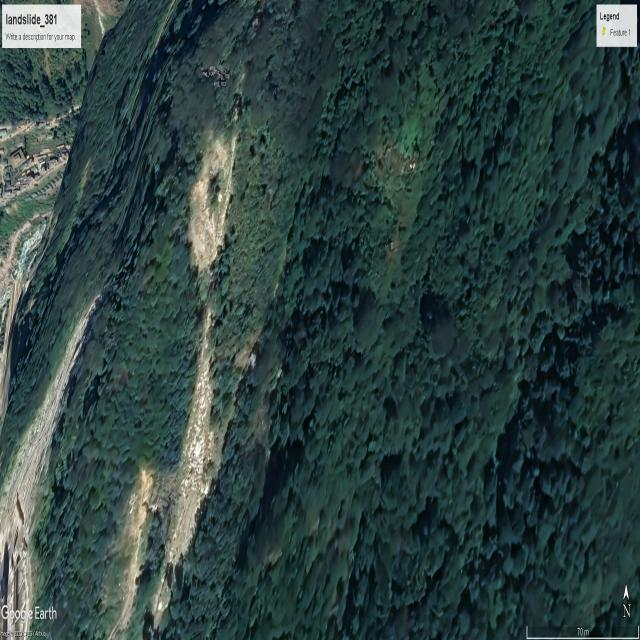Landslide: (149, 301, 227, 629), (8, 311, 87, 561), (192, 129, 245, 274)
